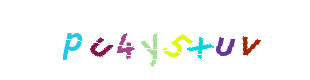4: (99, 0, 179, 80)
5: (115, 0, 195, 80)
P: (60, 0, 140, 80)
U: (86, 0, 166, 80), (184, 0, 264, 80)
V: (209, 0, 289, 80)
X: (138, 0, 218, 80)
Y: (114, 0, 194, 80)
